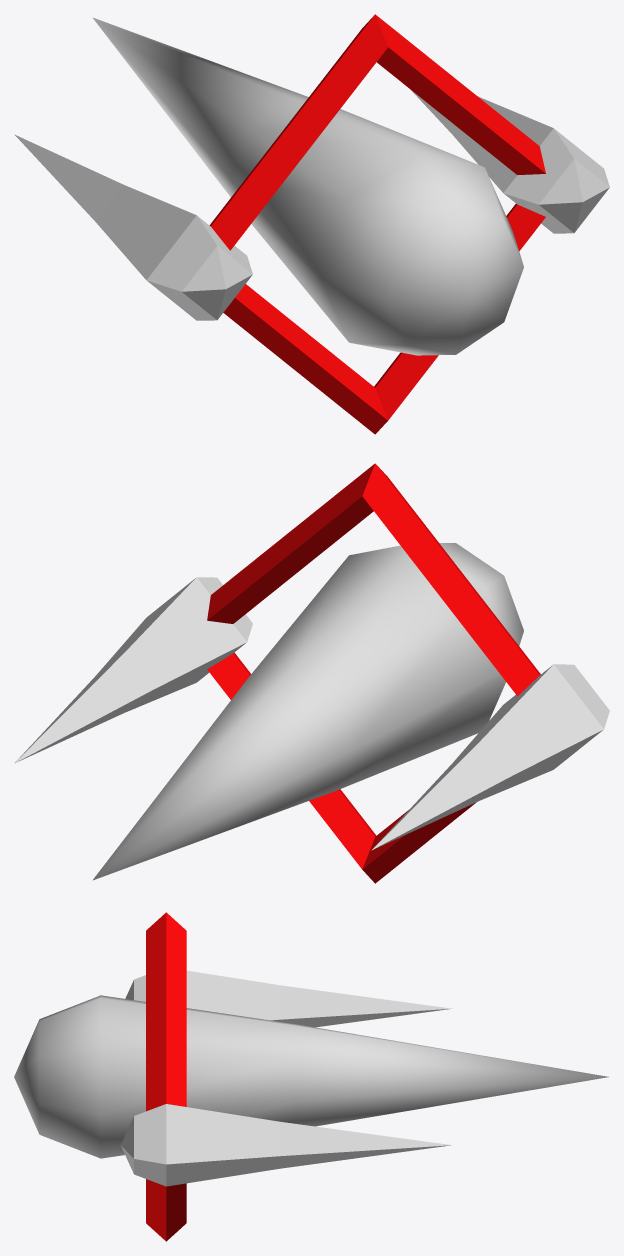
The model's file is space_craft_6.glb.
The picture shows the model from 3 angles, top to bottom: view 1: azimuth 30°, elevation 25°; view 2: azimuth 150°, elevation 25°; view 3: azimuth 270°, elevation 25°; orthographic projection. The views are drawn at different scales.
Parts seen in each view (by area): view 1: 球体.002, 环体, 球体; view 2: 球体.002, 球体, 环体; view 3: 球体.002, 球体, 环体.
Part boxes in pixels (x1,y1,x2,y2): 球体.002: (92, 17, 523, 355); 环体: (209, 14, 545, 434); 球体: (14, 89, 609, 320); 球体.002: (92, 543, 523, 880); 球体: (14, 577, 609, 850); 环体: (207, 463, 540, 883); 球体.002: (14, 995, 608, 1158); 球体: (120, 970, 451, 1186); 环体: (146, 912, 186, 1241).
Bounding box in the file's own units: 5.1 × 4.48 × 7.34.
